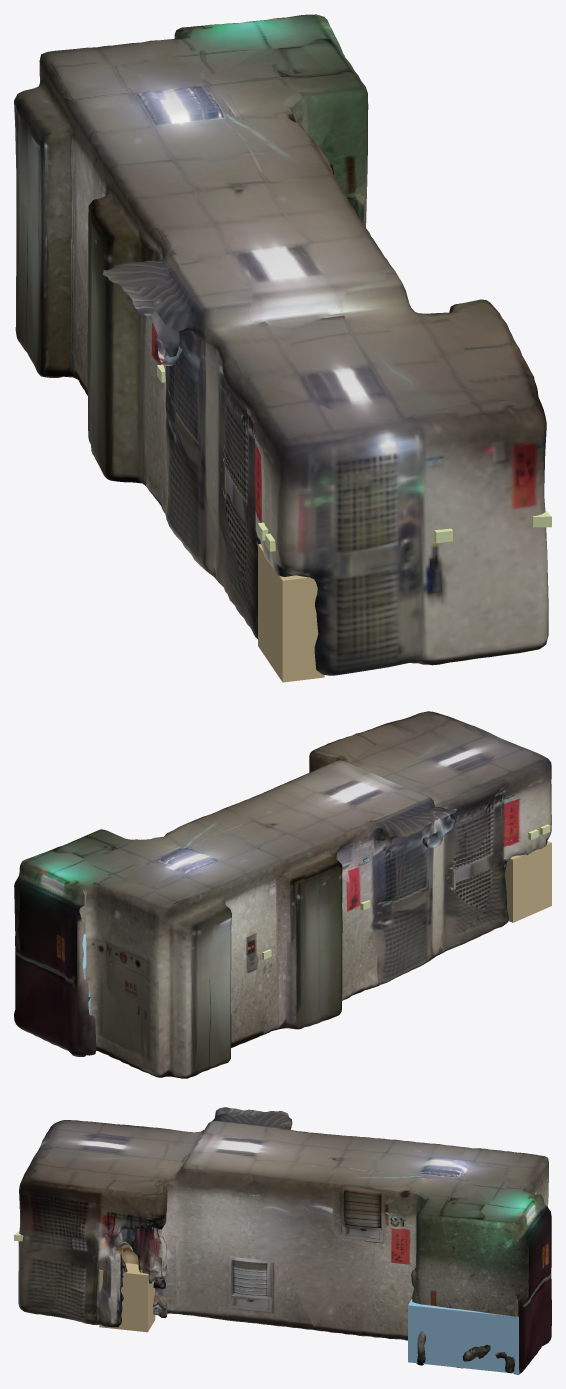
Rendered from alley.glb.
The picture shows the model from 3 angles, top to bottom: view 1: azimuth 30°, elevation 25°; view 2: azimuth 150°, elevation 25°; view 3: azimuth 270°, elevation 25°; orthographic projection. The views are drawn at different scales.
Visible parts, largest first — view 1: environment, selectA, selectB; view 2: environment, selectA; view 3: environment, selectC, selectA.
Boxes of the visible parts, left/top/right/bottom form: environment: left=14, top=14, right=548, bottom=675; selectA: left=258, top=544, right=324, bottom=682; selectB: left=157, top=364, right=551, bottom=551; environment: left=14, top=711, right=551, bottom=1078; selectA: left=505, top=841, right=551, bottom=922; environment: left=18, top=1107, right=551, bottom=1374; selectC: left=408, top=1299, right=519, bottom=1373; selectA: left=99, top=1263, right=155, bottom=1332.
Bounding box in the file's own units: 4.12 × 2.4 × 7.46.
4 materials, 1 textured.
